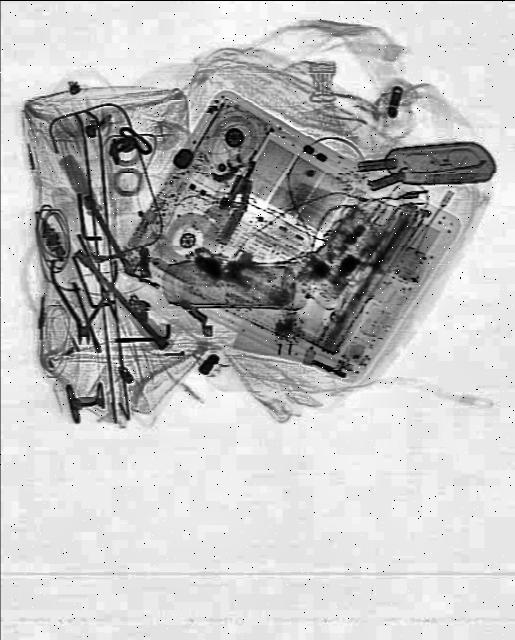Pliers: (50, 257, 120, 345)
